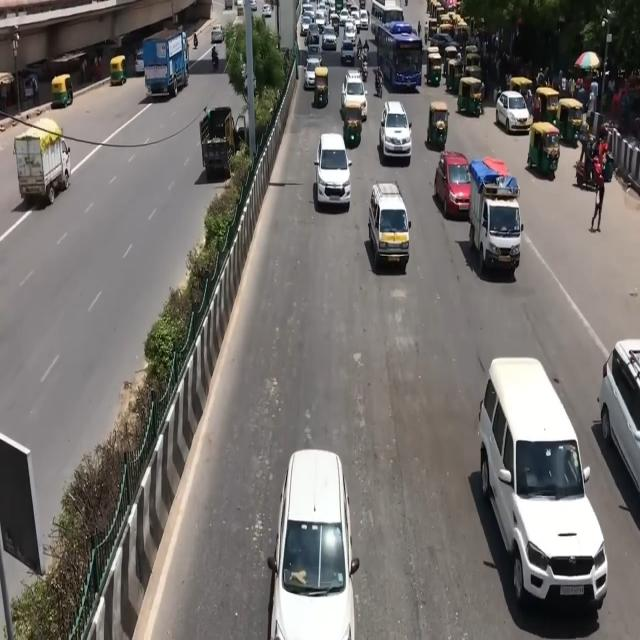auto: (526, 121, 562, 178), (557, 98, 584, 146), (457, 75, 485, 118), (535, 86, 561, 130), (427, 101, 449, 150), (343, 102, 363, 146), (51, 73, 73, 108), (445, 57, 465, 95), (509, 76, 535, 105), (313, 65, 329, 108), (427, 50, 442, 87), (110, 56, 127, 86), (464, 51, 482, 78)
bike-auto: (582, 149, 609, 205), (374, 67, 384, 97), (360, 55, 368, 82), (212, 44, 218, 68), (363, 39, 369, 59), (357, 37, 362, 57), (194, 32, 198, 49)
